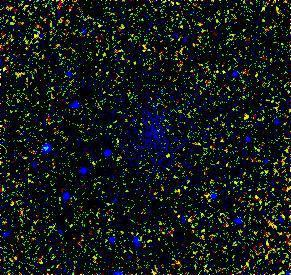star: (152, 140, 182, 170)
